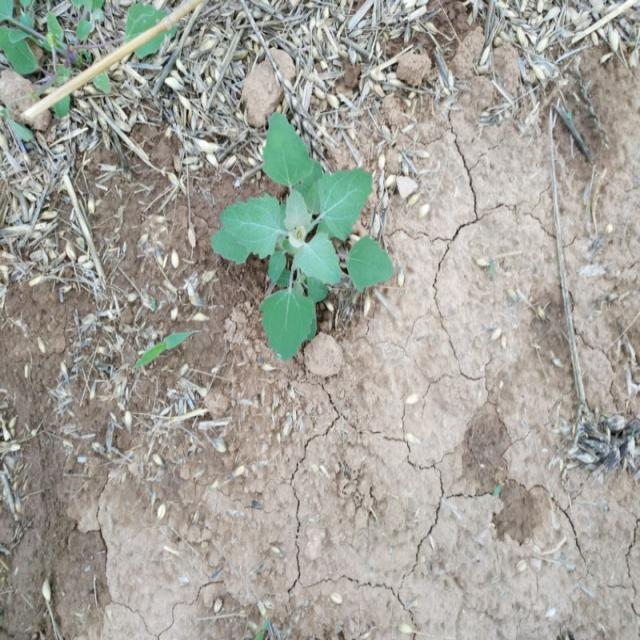goosefoots: (198, 109, 398, 356)
